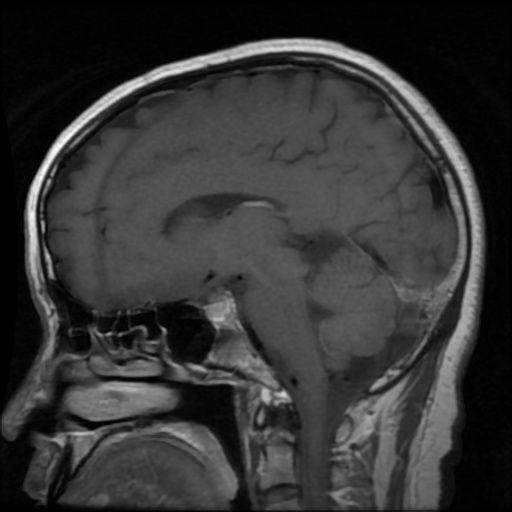pituitary: (205, 297, 235, 320)
